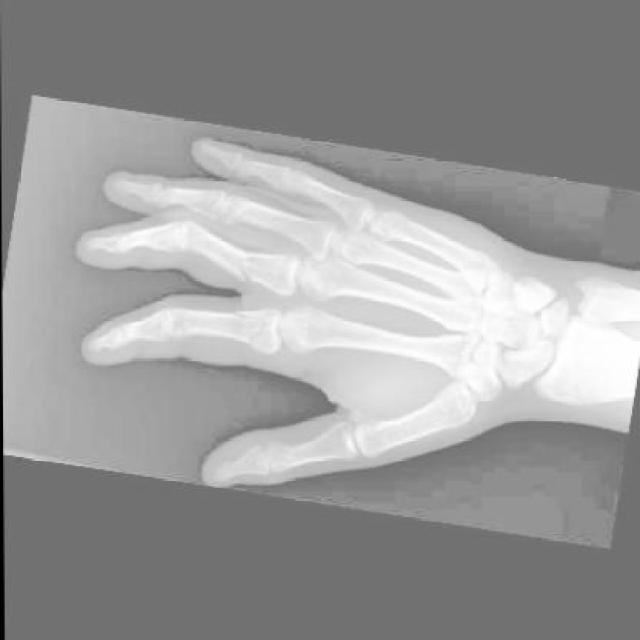Fracture: (228, 302, 275, 345), (227, 245, 267, 279)
